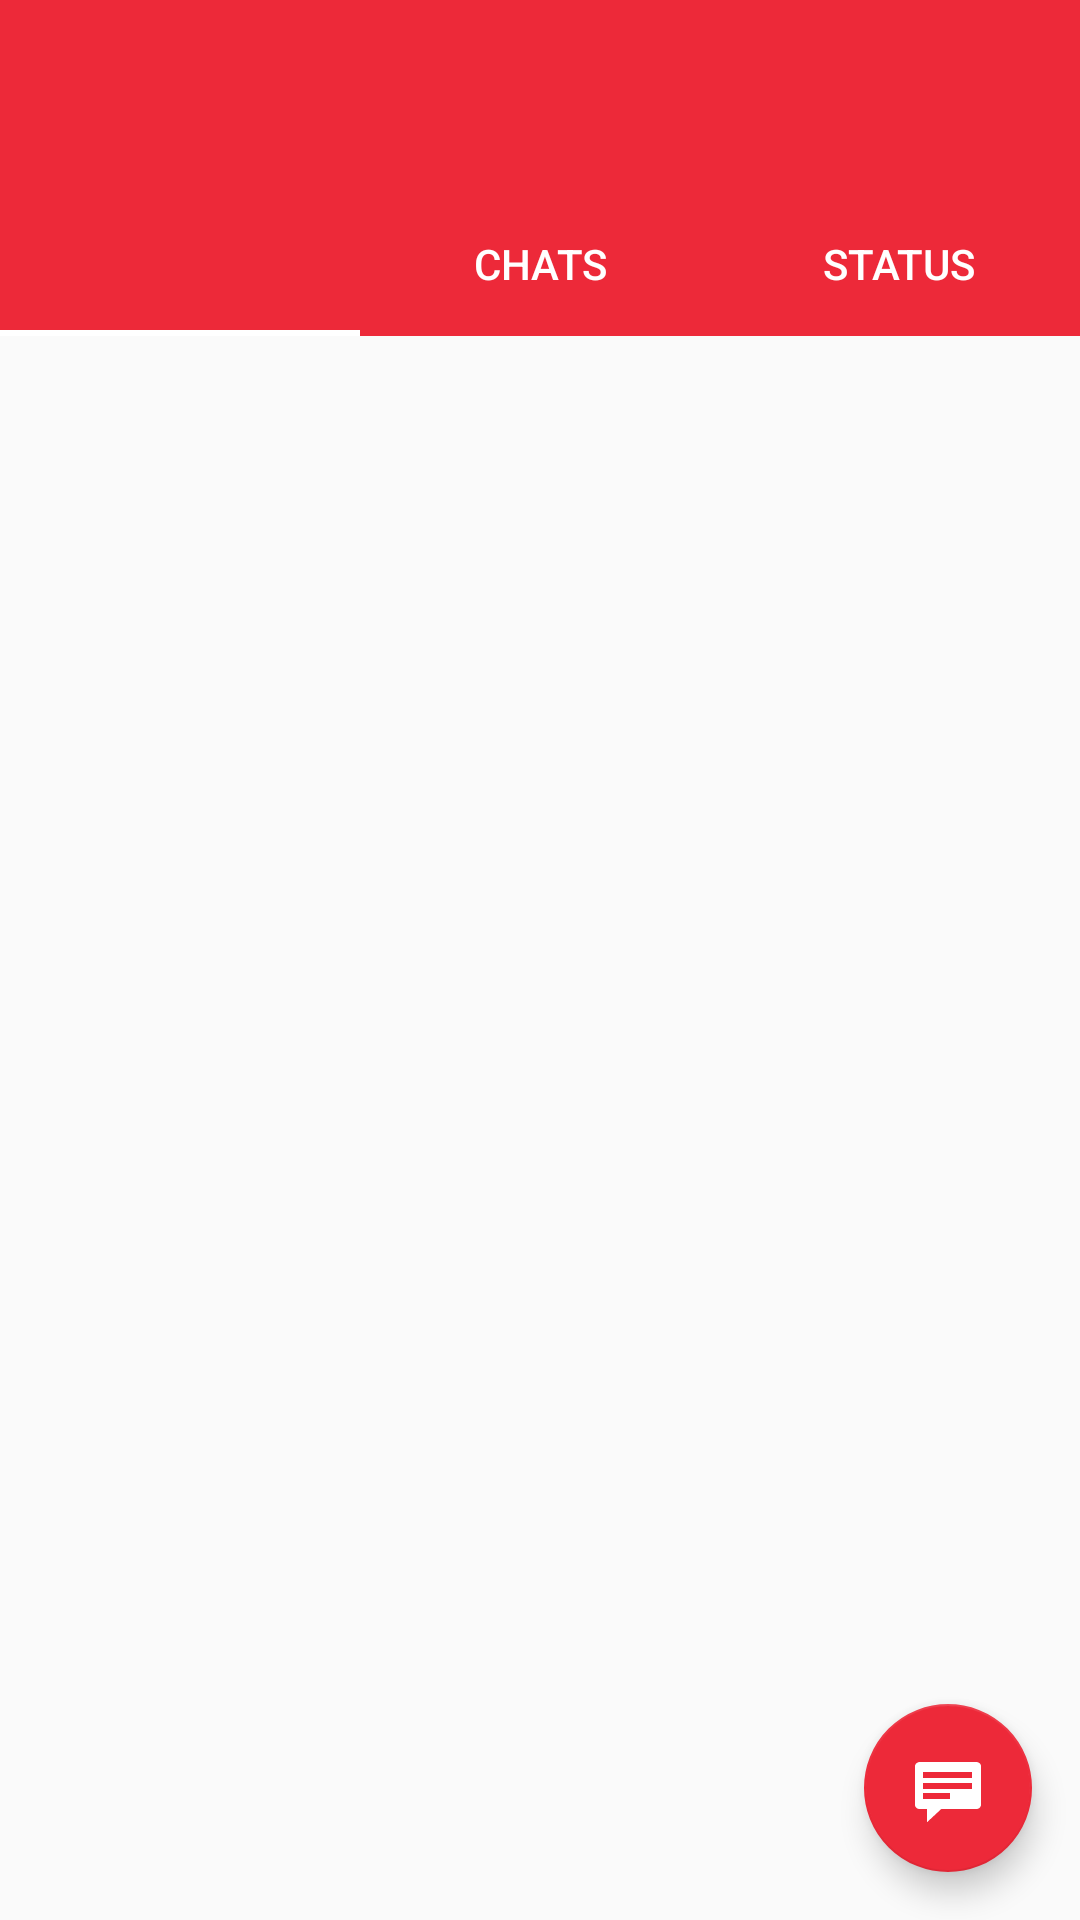

Point at icon controls on the screen. Image size 1080px×1920px, points as point (x, y).
chat: point (948, 1788)
